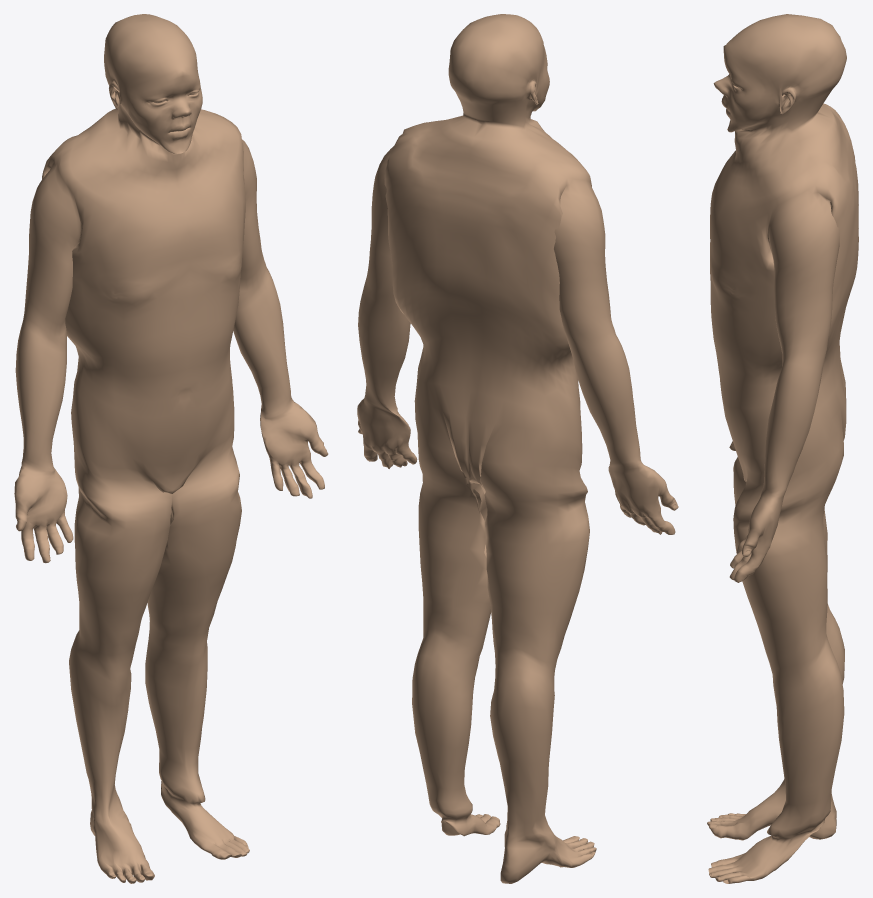
The model's file is skin-candidate-f1c2.glb.
The picture shows the model from 3 angles, left to right: view 1: azimuth 30°, elevation 25°; view 2: azimuth 150°, elevation 25°; view 3: azimuth 270°, elevation 25°; orthographic projection. The views are drawn at different scales.
Parts seen in each view (by area): view 1: MakeHuman_AT10_skin_fit_candidate_f1c2; view 2: MakeHuman_AT10_skin_fit_candidate_f1c2; view 3: MakeHuman_AT10_skin_fit_candidate_f1c2.
Part boxes in pixels (x1=…): MakeHuman_AT10_skin_fit_candidate_f1c2: x1=14, y1=14, x2=328, y2=883; MakeHuman_AT10_skin_fit_candidate_f1c2: x1=357, y1=14, x2=678, y2=883; MakeHuman_AT10_skin_fit_candidate_f1c2: x1=707, y1=14, x2=858, y2=883.
Size of the model in its own units: 0.6758 by 1.72 by 0.2826.
